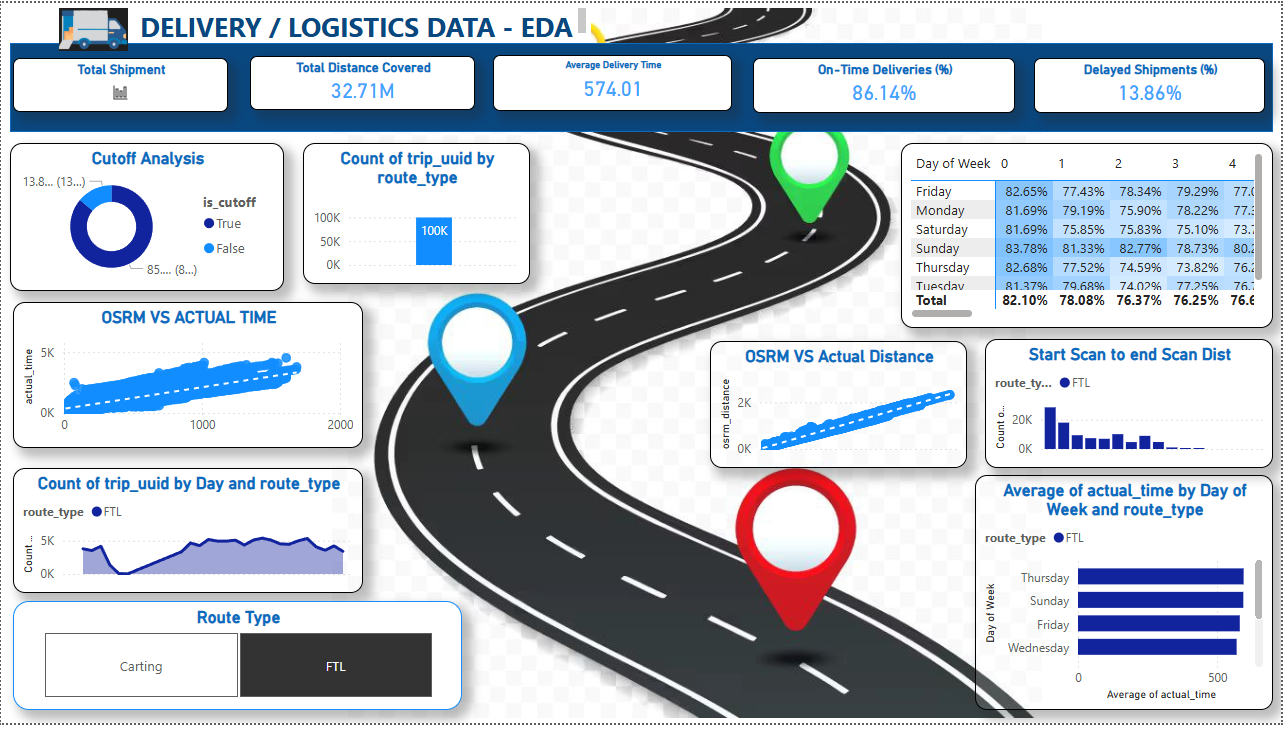

The page's visual inventory and layout, read from the dashboard file:
{"tool":"powerbi","page":{"name":"Delhivery Data EDA","canvas":[1280,720],"ordinal":0},"visuals":[{"type":"image","box":[249,0,874,720],"z":0},{"type":"shape","box":[9,40,1263,89],"z":1000},{"type":"scatterChart","title":"Total  Shipment","fields":{"X":["delhivery_data.Total Shipment"]},"box":[12,55,215,54],"z":2000},{"type":"card","title":"Average Delivery Time","fields":{"Values":["Avg(delhivery_data.actual_time)"]},"box":[492,52,239,56],"z":3000},{"type":"card","title":"On-Time Deliveries (%)","fields":{"Values":["delhivery_data.On-Time Deliveries (%)"]},"box":[752,55,262,55],"z":4000},{"type":"card","title":"Delayed Shipments (%)","fields":{"Values":["delhivery_data.Delayed Shipments (%)"]},"box":[1033,55,231,55],"z":5000},{"type":"card","title":"Total Distance Covered","fields":{"Values":["Sum(delhivery_data.actual_distance_to_destination)"]},"box":[249,53,225,54],"z":6000},{"type":"image","box":[50,0,84.2,53.3],"z":7000},{"type":"textbox","box":[134.2,0,455.8,40],"z":8000},{"type":"donutChart","title":"Cutoff Analysis","fields":{"Category":["delhivery_data.is_cutoff"],"Y":["CountNonNull(delhivery_data.trip_uuid)"]},"box":[9,140,274,148],"z":9000},{"type":"pivotTable","title":"Cutoff Compliance by Day and Time ","fields":{"Rows":["delhivery_data.Day of Week"],"Columns":["delhivery_data.Hour of Day"],"Values":["delhivery_data.On-Time Deliveries (%)"]},"box":[900,140,372,185],"z":10000},{"type":"scatterChart","title":"OSRM VS ACTUAL TIME","fields":{"X":["delhivery_data.osrm_time"],"Y":["delhivery_data.actual_time"]},"box":[12,299,350,146],"z":11000},{"type":"columnChart","fields":{"Category":["delhivery_data.route_type"],"Y":["CountNonNull(delhivery_data.trip_uuid)"]},"box":[302,140,227,141],"z":12000},{"type":"columnChart","title":"Start Scan to end Scan Dist","fields":{"Category":["delhivery_data.start_scan_to_end_scan (bins)"],"Y":["CountNonNull(delhivery_data.trip_uuid)"],"Series":["delhivery_data.route_type"]},"box":[984,336,288,129],"z":13000},{"type":"scatterChart","title":"OSRM VS Actual Distance","fields":{"X":["delhivery_data.actual_distance_to_destination"],"Y":["delhivery_data.osrm_distance"]},"box":[709,338,257,127],"z":14000},{"type":"areaChart","fields":{"Category":["delhivery_data.od_start_time.Variation.Date Hierarchy.Day"],"Y":["CountNonNull(delhivery_data.trip_uuid)"],"Series":["delhivery_data.route_type"]},"box":[12,465,350,125],"z":15000},{"type":"clusteredBarChart","fields":{"Category":["delhivery_data.Day of Week"],"Y":["Avg(delhivery_data.actual_time)"],"Series":["delhivery_data.route_type"]},"box":[974,472,298,235],"z":15001},{"type":"slicer","title":"Route Type","fields":{"Values":["delhivery_data.route_type"]},"box":[12,598,449,109],"z":15002}]}

Visuals, with their boxes in screenshot pixels (x1, y1, x2, y2), scaled from the page's 1280x720 canvas onto the 1287x730 screenshot:
image: x1=250, y1=0, x2=1129, y2=729
shape: x1=9, y1=41, x2=1279, y2=131
"Total  Shipment" scatterChart: x1=12, y1=56, x2=228, y2=111
"Average Delivery Time" card: x1=495, y1=53, x2=735, y2=110
"On-Time Deliveries (%)" card: x1=756, y1=56, x2=1020, y2=112
"Delayed Shipments (%)" card: x1=1039, y1=56, x2=1271, y2=112
"Total Distance Covered" card: x1=250, y1=54, x2=477, y2=108
image: x1=50, y1=0, x2=135, y2=54
textbox: x1=135, y1=0, x2=593, y2=41
"Cutoff Analysis" donutChart: x1=9, y1=142, x2=285, y2=292
"Cutoff Compliance by Day and Time " pivotTable: x1=905, y1=142, x2=1279, y2=330
"OSRM VS ACTUAL TIME" scatterChart: x1=12, y1=303, x2=364, y2=451
columnChart - delhivery_data.route_type x CountNonNull(delhivery_data.trip_uuid): x1=304, y1=142, x2=532, y2=285
"Start Scan to end Scan Dist" columnChart: x1=989, y1=341, x2=1279, y2=471
"OSRM VS Actual Distance" scatterChart: x1=713, y1=343, x2=971, y2=471
areaChart - delhivery_data.od_start_time.Variation.Date Hierarchy.Day x CountNonNull(delhivery_data.trip_uuid): x1=12, y1=471, x2=364, y2=598
clusteredBarChart - delhivery_data.Day of Week x Avg(delhivery_data.actual_time): x1=979, y1=479, x2=1279, y2=717
"Route Type" slicer: x1=12, y1=606, x2=464, y2=717
